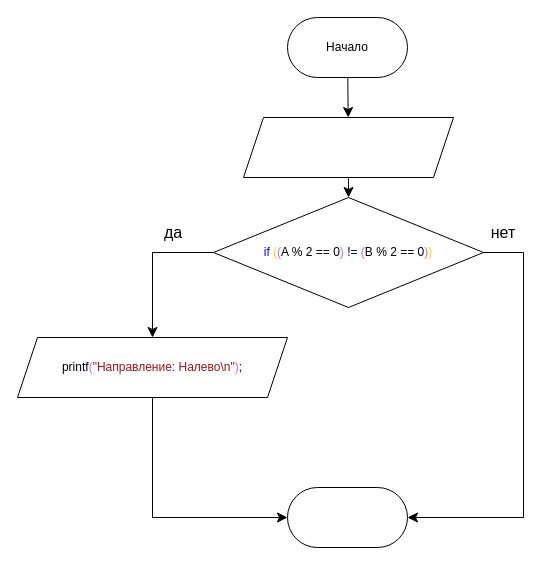
The diagram is 551 pixels wide and 565 high, and some of its shapes have lost their labels. Here are the shapes that lost their labels. From the top down, the centre of each, then its label:
the point at 348,147: scanf ( "%d %d" , &A, &B ) ;
the point at 347,517: Конец
